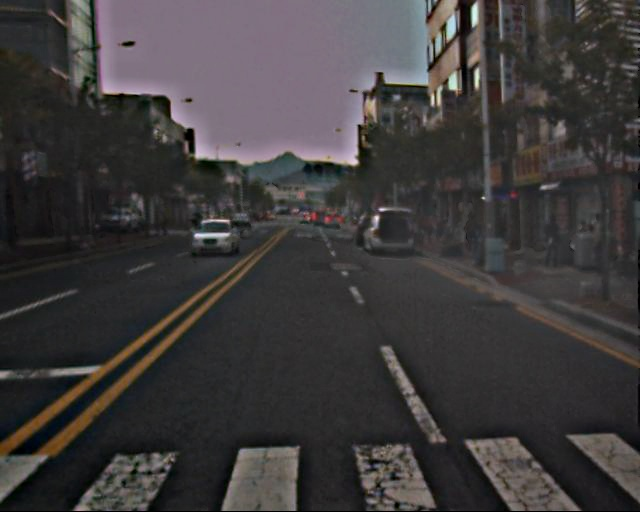person: (585, 211, 612, 267), (541, 215, 562, 267), (417, 214, 447, 242), (465, 213, 482, 255)
